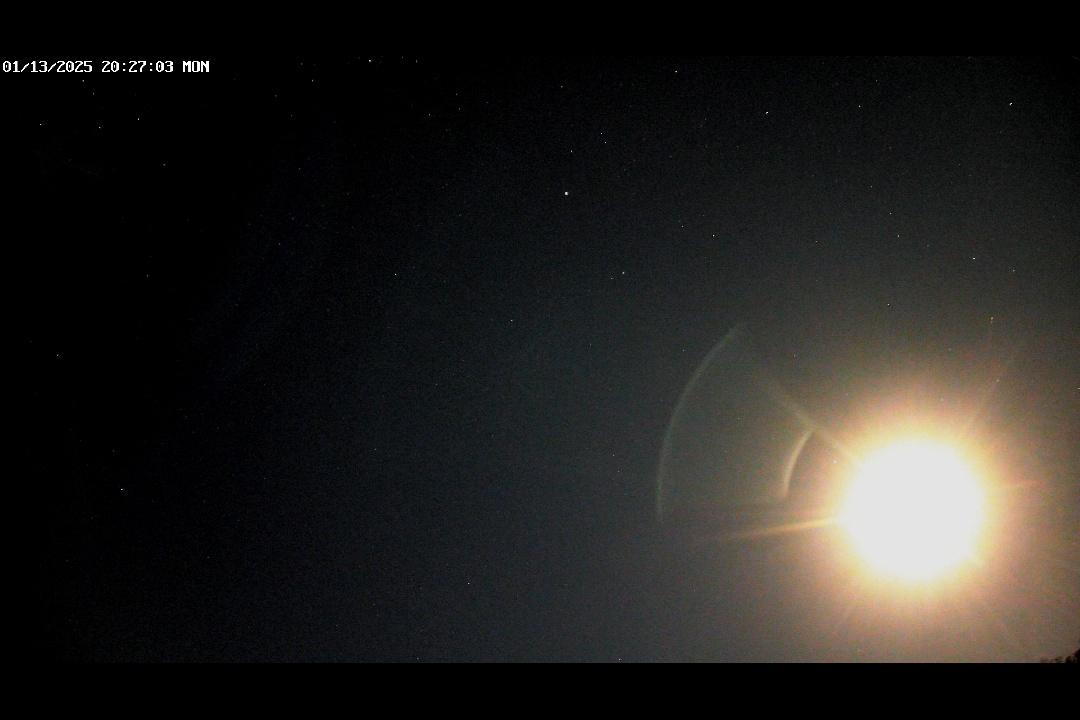Plane: (980, 308, 1002, 340)
